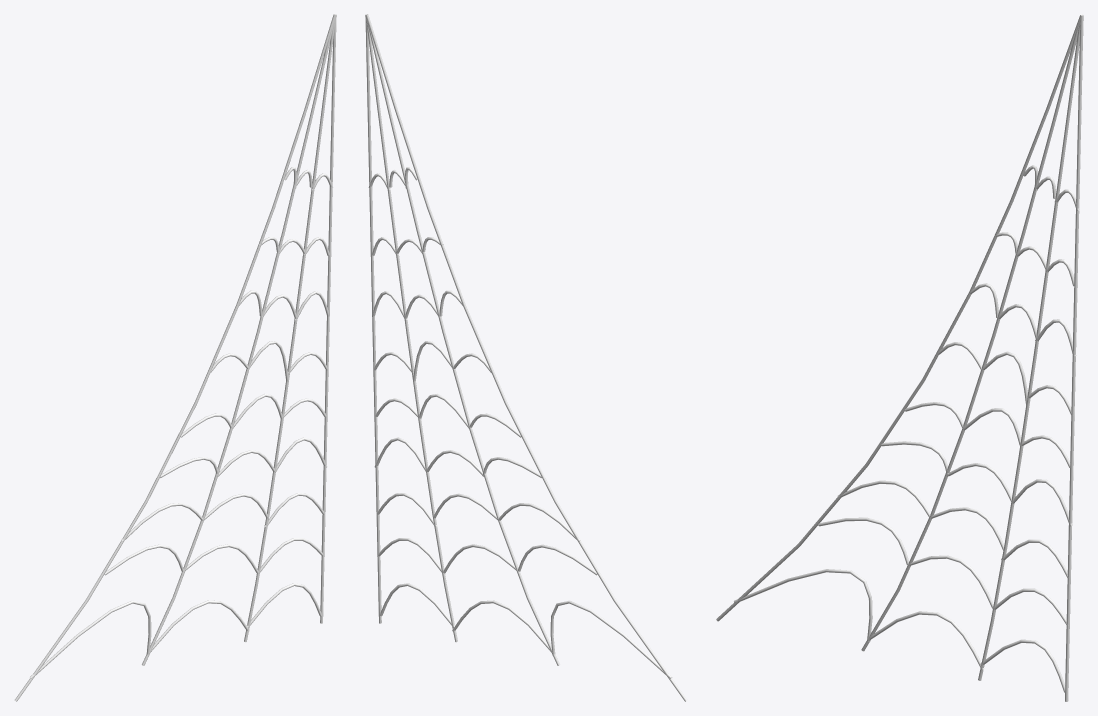
The model's file is cobweb_3.glb.
3 views of the same model, side by side, from view 1: azimuth 30°, elevation 25°; view 2: azimuth 150°, elevation 25°; view 3: azimuth 330°, elevation 25° (orthographic). The views are drawn at different scales.
Visible parts, largest first — view 1: Line094; view 2: Line094; view 3: Line094.
Boxes of the visible parts, x1,y1,x2,y2 form: Line094: (14,14,336,701); Line094: (365,14,687,701); Line094: (716,14,1083,701).
Bounding box in the file's own units: 1.27 × 2.3 × 0.01.
1 material, 1 textured.
